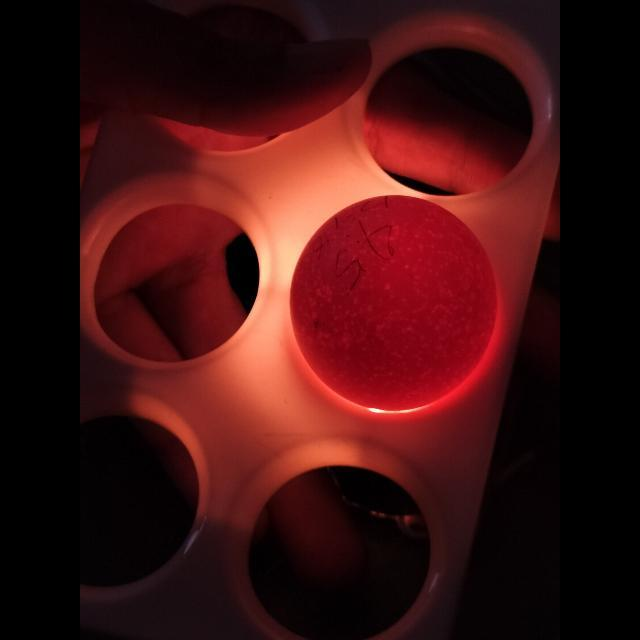Infertile: (290, 193, 510, 409)
